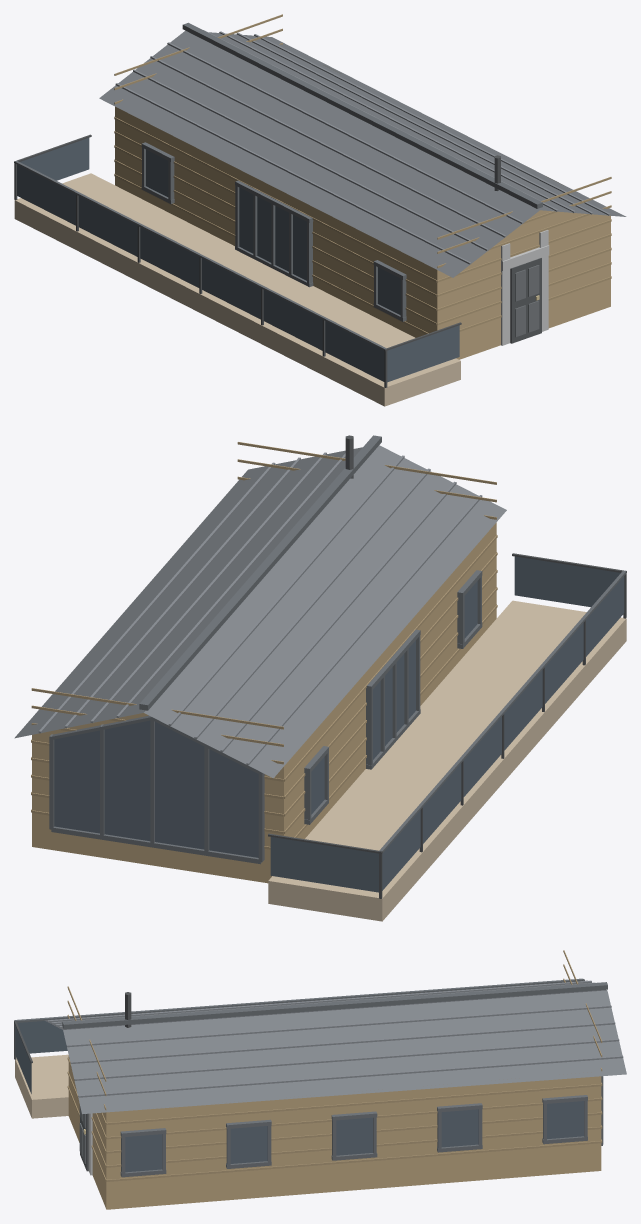
3 renders of one model, top to bottom at view 1: azimuth 30°, elevation 25°; view 2: azimuth 150°, elevation 25°; view 3: azimuth 270°, elevation 25°, orthographic. The views are drawn at different scales.
Parts seen in each view (by area): view 1: slate, door_wood, larch, slate_dk, slate_lt, door_wood_p, window_glass_008, stone_band, window_glass_002, window_glass_003, window_glass_005, window_glass_006 (+12 smaller); view 2: slate, larch, window_glass_015, door_wood, slate_dk, slate_lt, door_wood_p, window_glass_007, window_glass_008, pipe, window_glass_001, window_glass_004 (+4 smaller); view 3: slate, door_wood, slate_dk, slate_lt, door_wood_p, larch, window_glass_016, window_glass_017, window_glass_019, window_glass_018, window_glass_020, window_glass_006 (+2 smaller).
Boxes of the visible parts, left/top/right/bottom form: slate: left=99, top=30, right=626, bottom=277; door_wood: left=115, top=106, right=610, bottom=359; larch: left=14, top=173, right=460, bottom=406; slate_dk: left=14, top=22, right=542, bottom=350; slate_lt: left=115, top=30, right=610, bottom=264; door_wood_p: left=114, top=14, right=611, bottom=334; window_glass_008: left=387, top=325, right=459, bottom=382; stone_band: left=501, top=230, right=549, bottom=345; window_glass_002: left=78, top=196, right=137, bottom=256; window_glass_003: left=140, top=227, right=199, bottom=287; window_glass_005: left=263, top=290, right=322, bottom=350; window_glass_006: left=325, top=321, right=384, bottom=381; slate: left=14, top=445, right=506, bottom=778; larch: left=268, top=600, right=626, bottom=921; window_glass_015: left=54, top=720, right=258, bottom=857; door_wood: left=32, top=522, right=496, bottom=883; slate_dk: left=49, top=435, right=626, bottom=864; slate_lt: left=38, top=452, right=482, bottom=765; door_wood_p: left=31, top=442, right=497, bottom=849; window_glass_007: left=270, top=837, right=378, bottom=892; window_glass_008: left=514, top=556, right=620, bottom=607; pipe: left=268, top=435, right=626, bottom=898; window_glass_001: left=382, top=810, right=420, bottom=890; window_glass_004: left=504, top=670, right=542, bottom=750; slate: left=44, top=980, right=626, bottom=1114; door_wood: left=68, top=1056, right=601, bottom=1209; slate_dk: left=15, top=978, right=607, bottom=1177; slate_lt: left=47, top=980, right=623, bottom=1097; door_wood_p: left=67, top=950, right=602, bottom=1181; larch: left=15, top=1054, right=68, bottom=1118; window_glass_016: left=125, top=1134, right=162, bottom=1172; window_glass_017: left=230, top=1126, right=267, bottom=1163; window_glass_019: left=441, top=1109, right=478, bottom=1147; window_glass_018: left=336, top=1117, right=372, bottom=1155; window_glass_020: left=547, top=1101, right=583, bottom=1138; window_glass_006: left=17, top=1021, right=67, bottom=1053.
Size of the model in its own units: 10.06 by 4.44 by 14.83.
